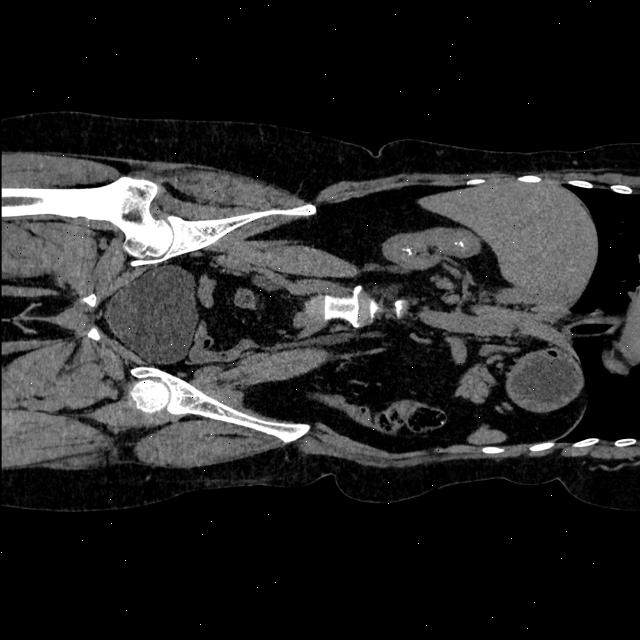kidneystone: (402, 248, 412, 256), (453, 241, 463, 248)
